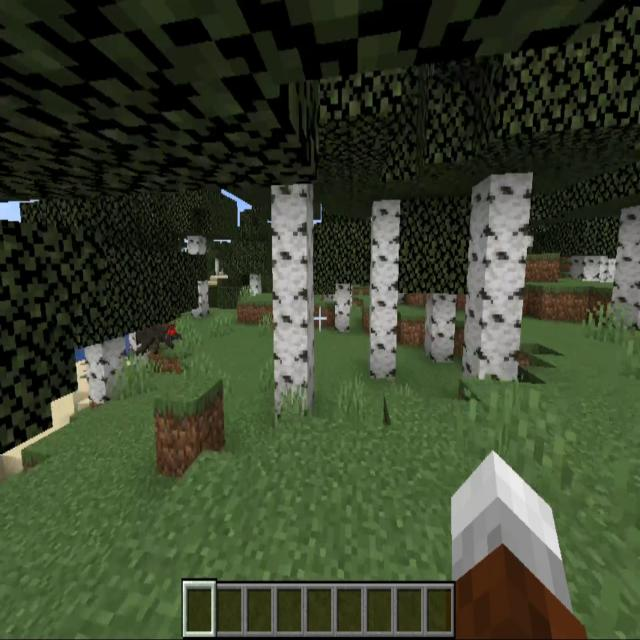Spider: (134, 314, 181, 360)
